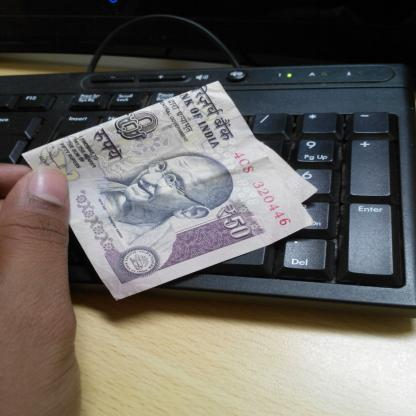Old50Front: (20, 80, 318, 300)
